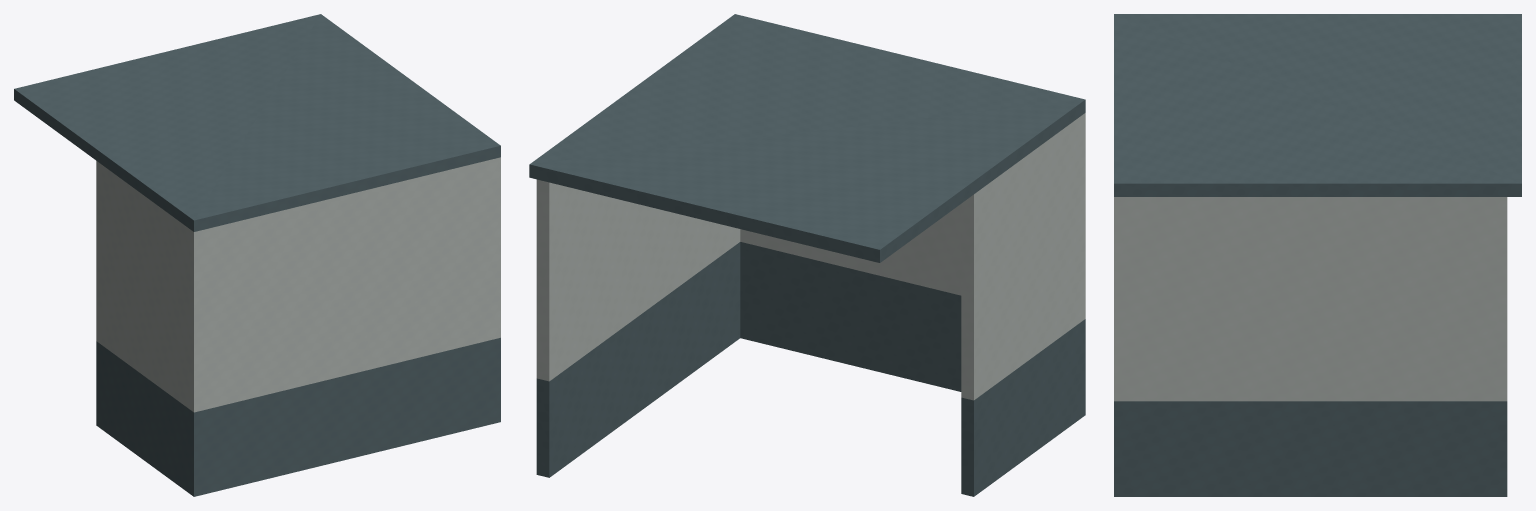
Rendered from AST-STF-G3-025.glb.
3 renders of one model, left to right at view 1: azimuth 30°, elevation 25°; view 2: azimuth 150°, elevation 25°; view 3: azimuth 270°, elevation 25°, orthographic. The views are drawn at different scales.
Parts seen in each view (by area): view 1: screen_wall_staff_white_paint_uniform_extension, overhead_staff_bluegrey_paint_uniform_extension, screen_wall_staff_bluegrey_paint_uniform_extension; view 2: overhead_staff_bluegrey_paint_uniform_extension, screen_wall_staff_white_paint_uniform_extension, screen_wall_staff_bluegrey_paint_uniform_extension; view 3: screen_wall_staff_white_paint_uniform_extension, overhead_staff_bluegrey_paint_uniform_extension, screen_wall_staff_bluegrey_paint_uniform_extension.
Part boxes in pixels (bbox=[...]): screen_wall_staff_white_paint_uniform_extension: bbox=[96, 157, 500, 412]; overhead_staff_bluegrey_paint_uniform_extension: bbox=[14, 14, 500, 231]; screen_wall_staff_bluegrey_paint_uniform_extension: bbox=[96, 337, 500, 496]; overhead_staff_bluegrey_paint_uniform_extension: bbox=[529, 14, 1085, 262]; screen_wall_staff_white_paint_uniform_extension: bbox=[536, 113, 1085, 400]; screen_wall_staff_bluegrey_paint_uniform_extension: bbox=[536, 242, 1085, 496]; screen_wall_staff_white_paint_uniform_extension: bbox=[1114, 197, 1507, 401]; overhead_staff_bluegrey_paint_uniform_extension: bbox=[1114, 14, 1521, 196]; screen_wall_staff_bluegrey_paint_uniform_extension: bbox=[1114, 401, 1507, 496].
Bounding box in the file's own units: 3.88 × 3.34 × 3.94.
4 materials, 4 textured.
